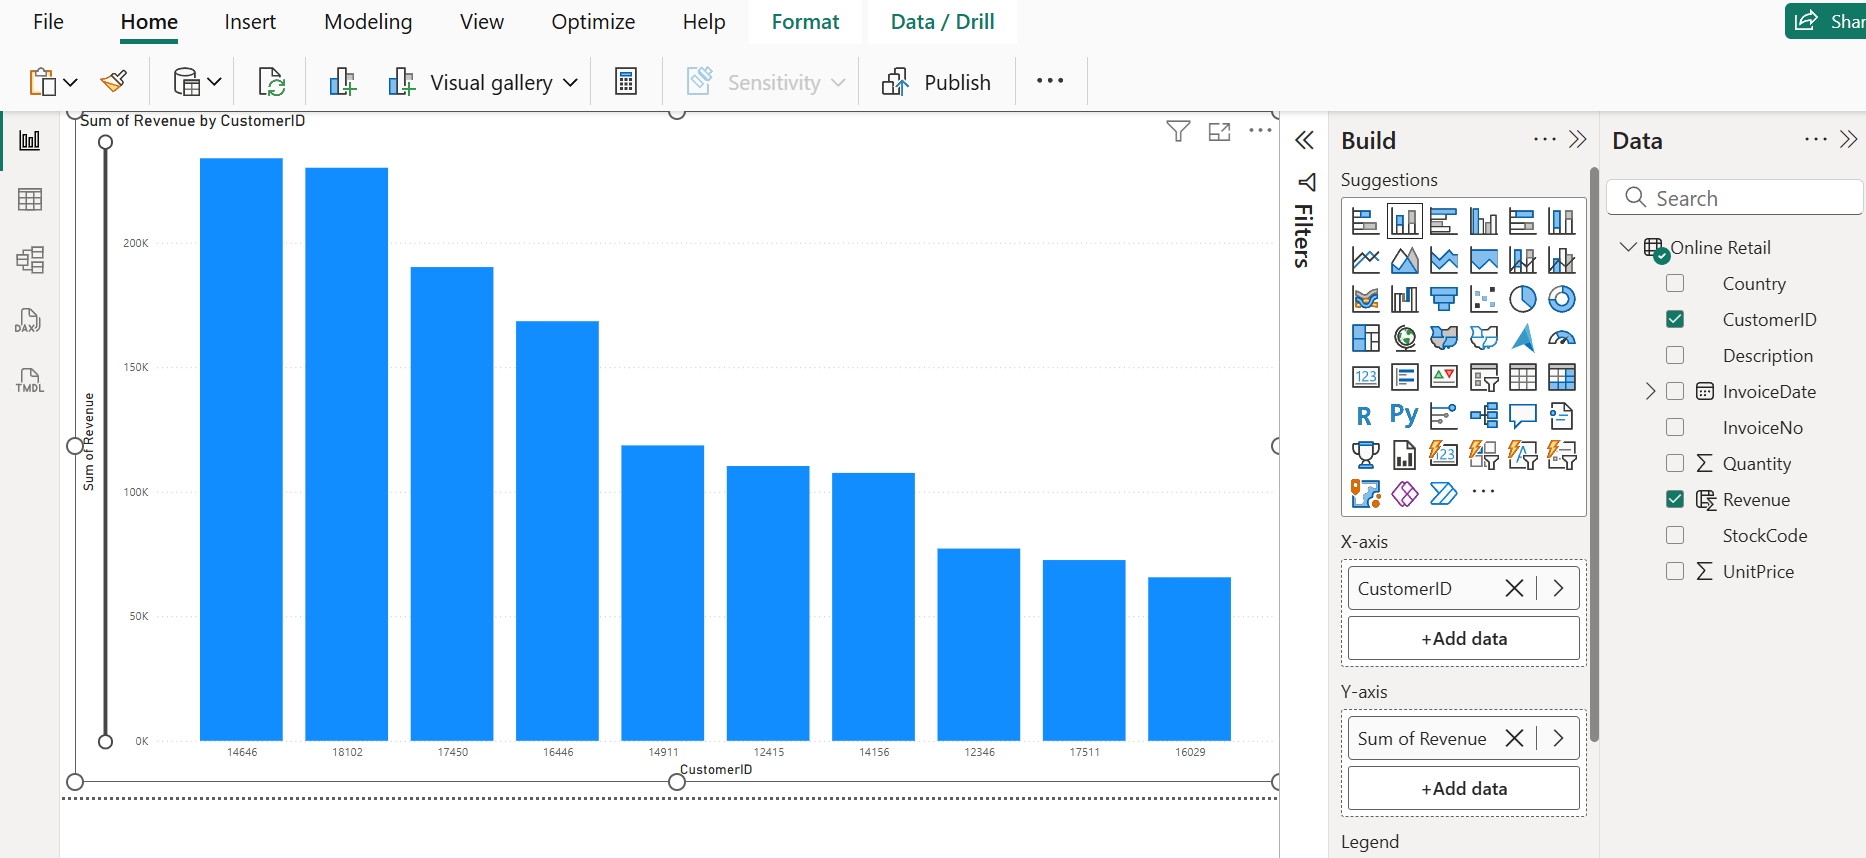

What the dashboard file says about the page in this screenshot:
{"tool":"powerbi","page":{"name":"Page 3","canvas":[1280,720],"ordinal":2},"visuals":[{"type":"columnChart","fields":{"Category":["Online Retail.CustomerID"],"Y":["Sum(Online Retail.Revenue)"]},"box":[75.5,158.8,1100,506.3],"z":0}]}

Visuals, with their boxes on the page's 1280x720 design canvas (x1, y1, x2, y2). These are canvas units, not pixel positions in the 1866x858 screenshot, which may show the page scaled, cropped or inside an application window:
columnChart - Online Retail.CustomerID x Sum(Online Retail.Revenue): 76,159,1176,665
